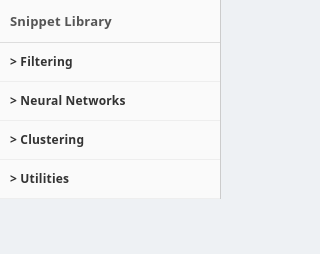
Test: SnippetLibrary › Clustering category contains K-Means
Click the text "> Clustering" at (110, 141), box top-left (0, 121), bottom-right (220, 160)
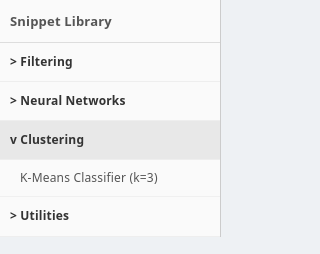
Check: the text "K-Means Classifier (k=3)" is shown, box top-left (0, 160), bottom-right (220, 198)
